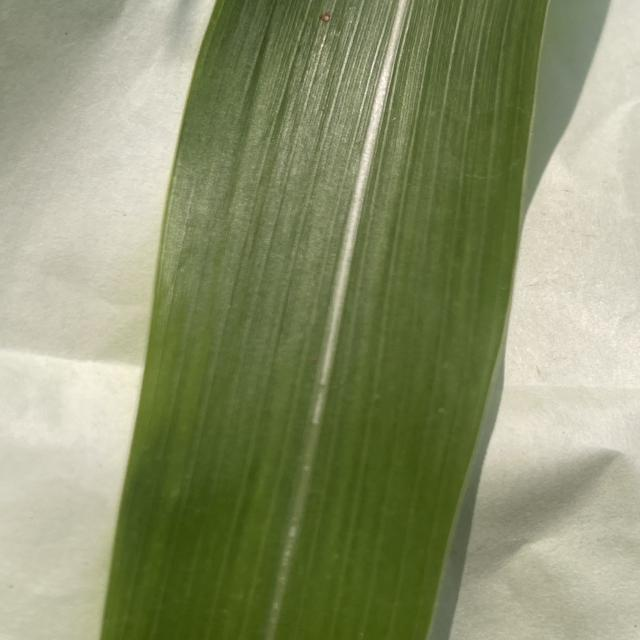millet_healthy: (89, 0, 566, 640)
